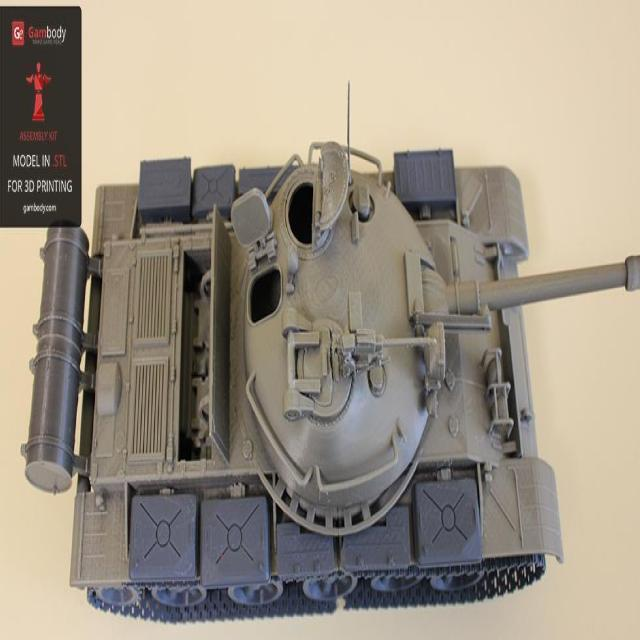Tanks: (26, 141, 555, 604)
